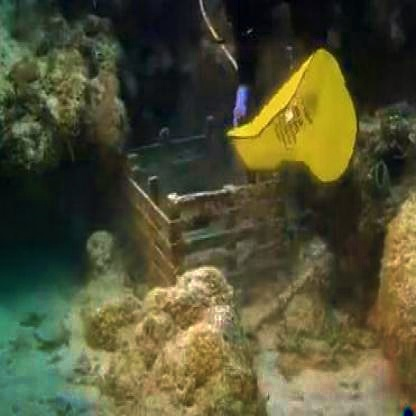misc: (136, 143, 282, 330)
